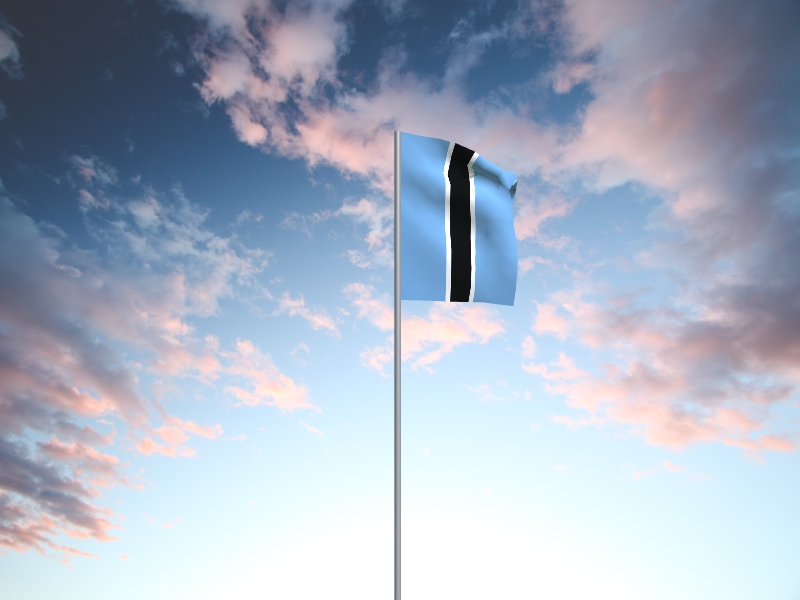bw: (402, 133, 520, 309)
